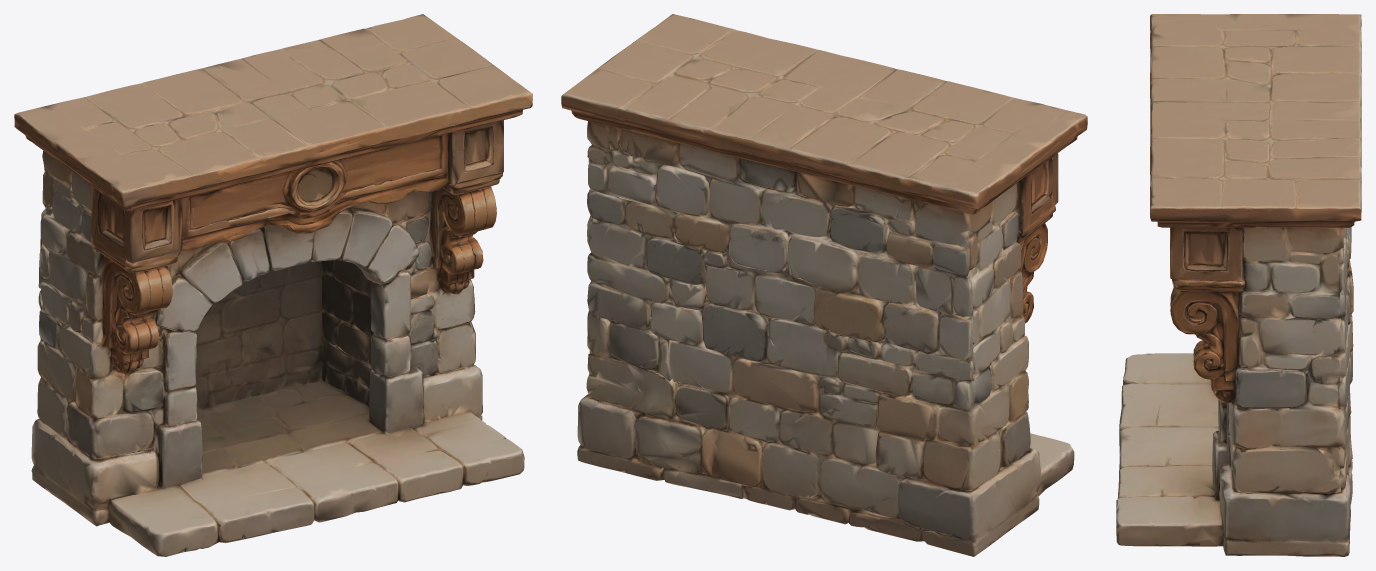
The model's file is study_hearth_a_v1.glb.
3 views of the same model, side by side, from view 1: azimuth 30°, elevation 25°; view 2: azimuth 150°, elevation 25°; view 3: azimuth 270°, elevation 25° (orthographic). The views are drawn at different scales.
Visible parts, largest first — view 1: tripo_node_58ea859f-4c65-4b4b-984f-776d9a39b95c; view 2: tripo_node_58ea859f-4c65-4b4b-984f-776d9a39b95c; view 3: tripo_node_58ea859f-4c65-4b4b-984f-776d9a39b95c.
Part boxes in pixels (x1,y1,x2,y2): tripo_node_58ea859f-4c65-4b4b-984f-776d9a39b95c: (14,14,532,556); tripo_node_58ea859f-4c65-4b4b-984f-776d9a39b95c: (561,14,1087,556); tripo_node_58ea859f-4c65-4b4b-984f-776d9a39b95c: (1116,14,1361,556).
Bounding box in the file's own units: 0.9772 × 0.8321 × 0.5214.
Materials: 1 (1 with a texture image).
